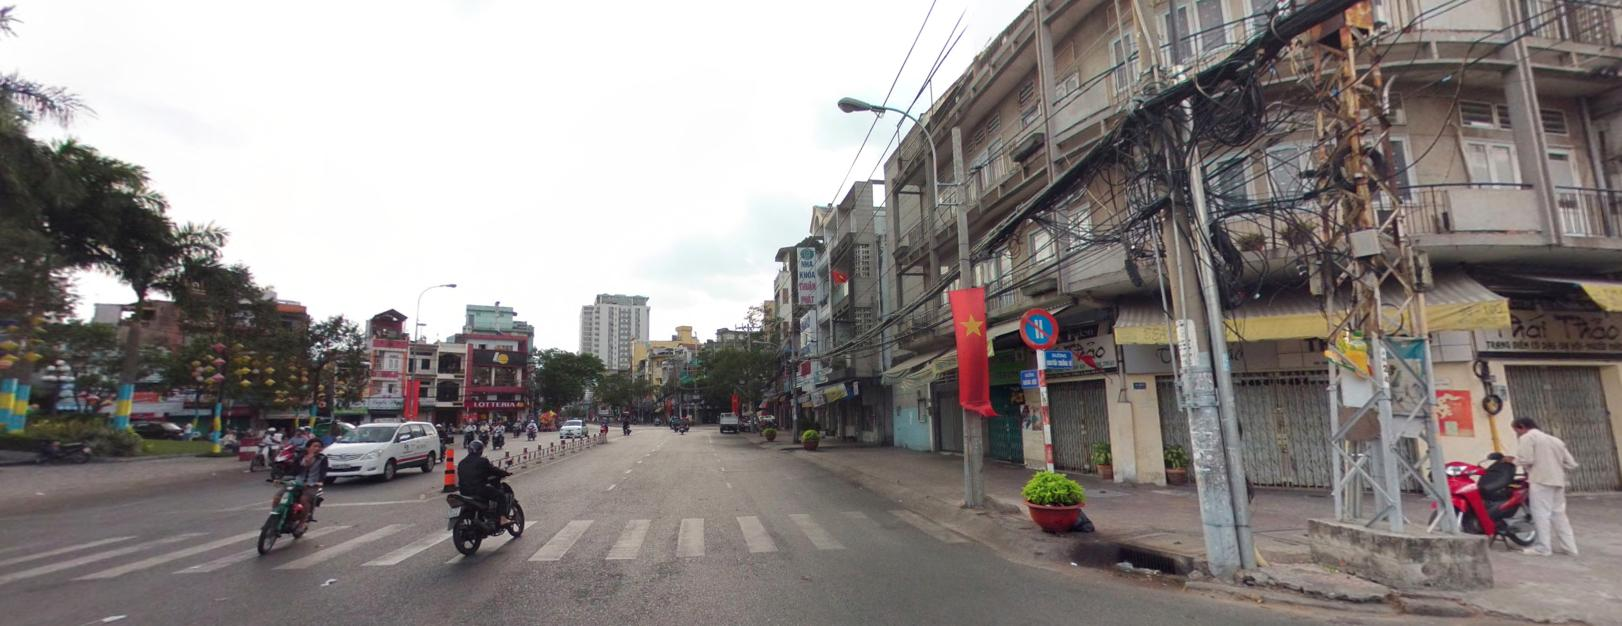Cam dung va do: (1019, 307, 1058, 347)
